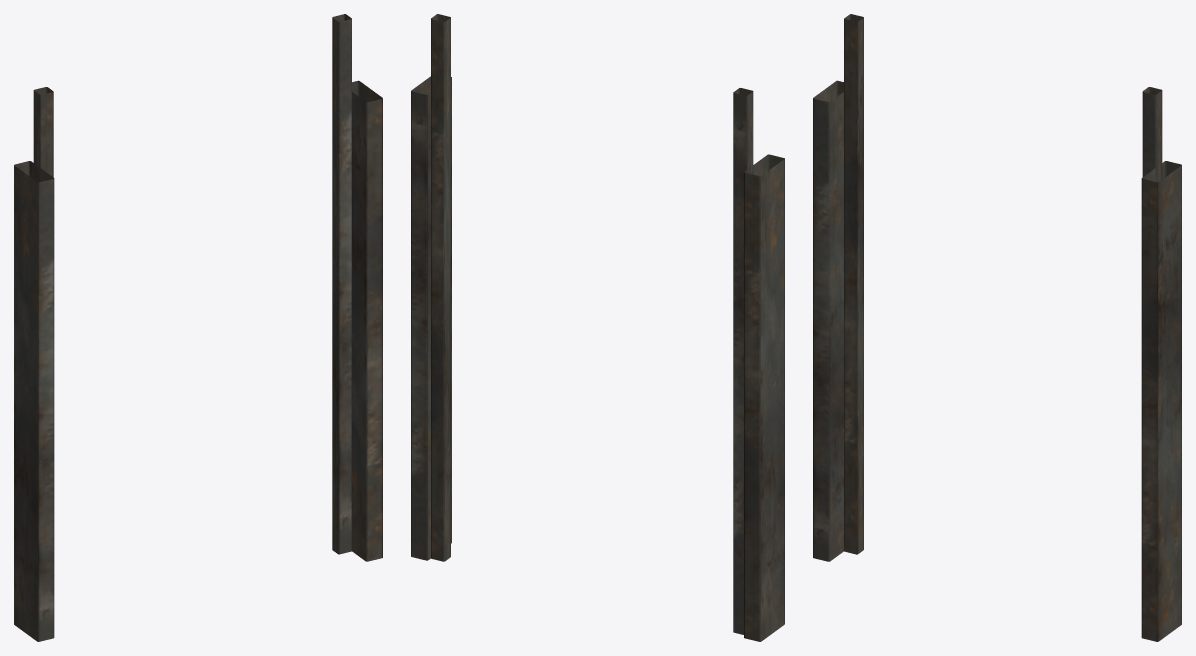
The model's file is wall_005.glb.
3 views of the same model, side by side, from view 1: azimuth 30°, elevation 25°; view 2: azimuth 150°, elevation 25°; view 3: azimuth 330°, elevation 25° (orthographic).
Parts seen in each view (by area): view 1: Building_12_066; view 2: Building_12_066; view 3: Building_12_066.
Part boxes in pixels (box(x1,y1,x2,y2)): Building_12_066: box(14, 14, 382, 641); Building_12_066: box(411, 14, 784, 641); Building_12_066: box(813, 14, 1181, 641).
Size of the model in its own units: 1.36 by 2 by 0.1662.
1 material, 1 textured.
